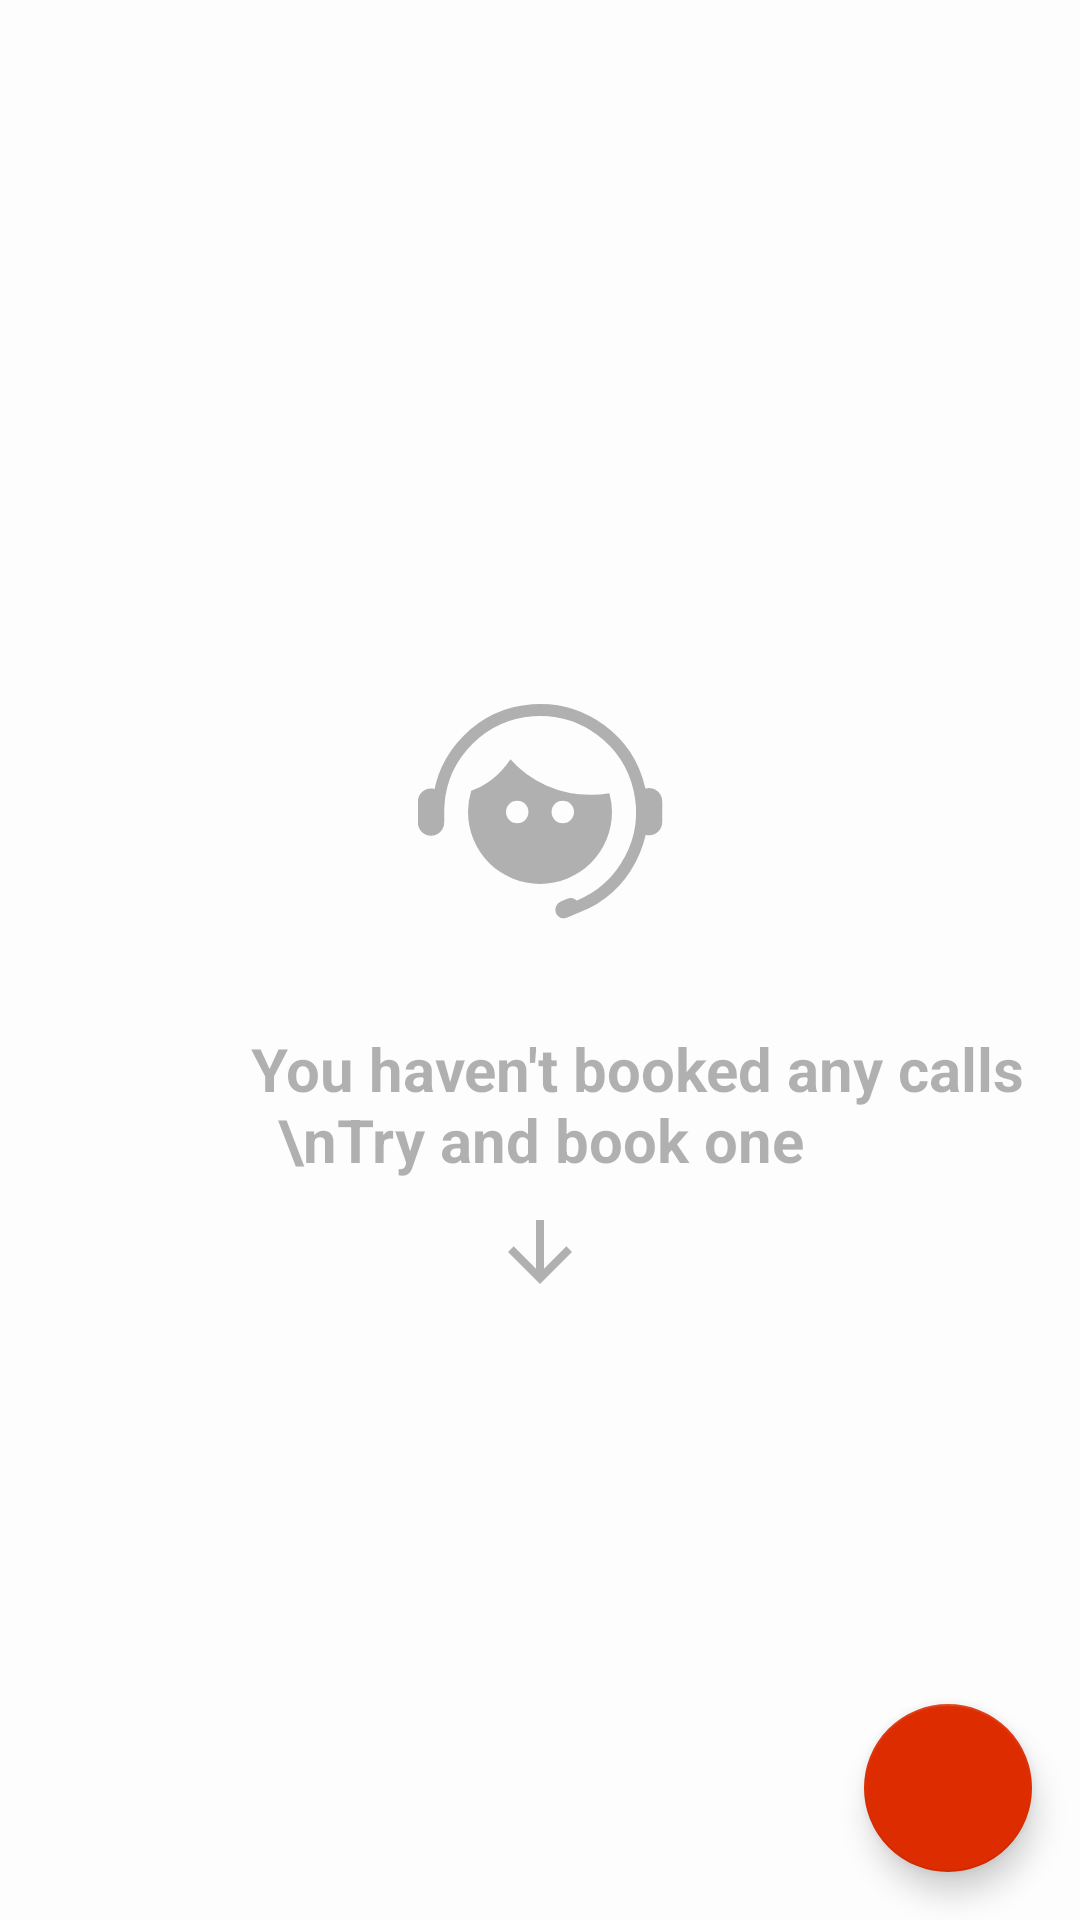

Icon bounding boxes for this 1080x1920 phone screenshot, format (x1=x1, y1=y1, x2=x2, y2=y2):
arrow downward: (x1=508, y1=1220, x2=572, y2=1284)
